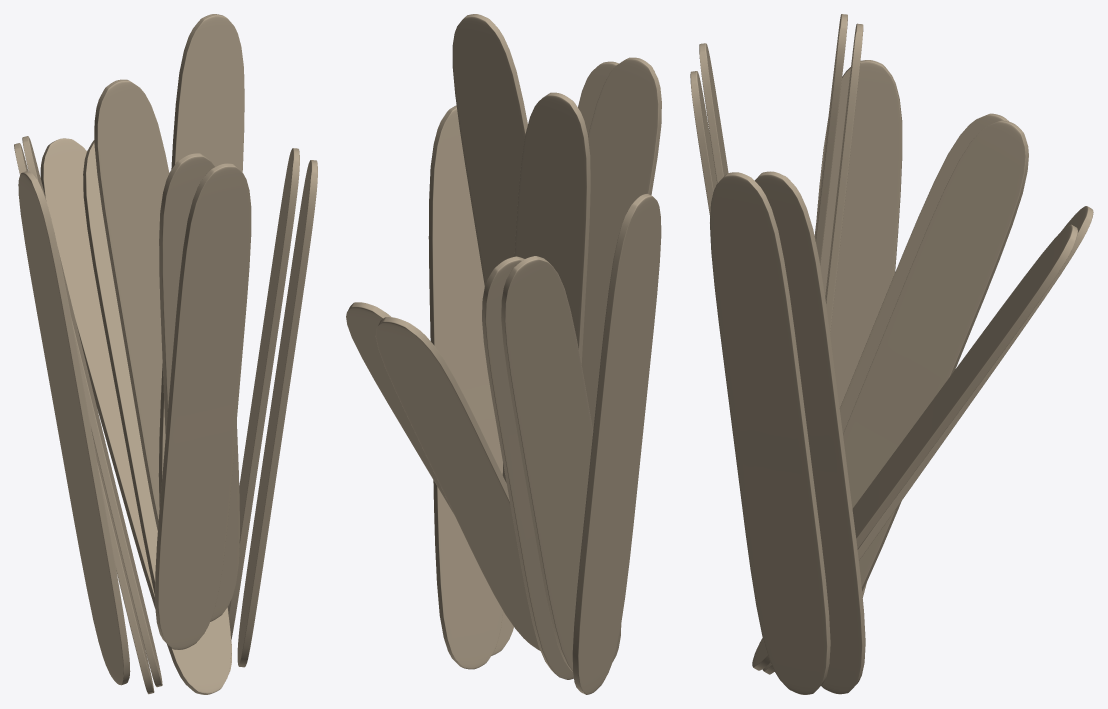
The model's file is Cup_Popsicles.fbx.
3 renders of one model, left to right at view 1: azimuth 30°, elevation 25°; view 2: azimuth 150°, elevation 25°; view 3: azimuth 270°, elevation 25°, orthographic. The views are drawn at different scales.
Parts seen in each view (by area): view 1: polySurface661; view 2: polySurface661; view 3: polySurface661.
Boxes of the visible parts, left/top/right/bottom form: polySurface661: left=14, top=14, right=317, bottom=694; polySurface661: left=346, top=14, right=661, bottom=694; polySurface661: left=690, top=14, right=1093, bottom=694.
Bounding box in the file's own units: 20.7 × 52.85 × 28.67.
